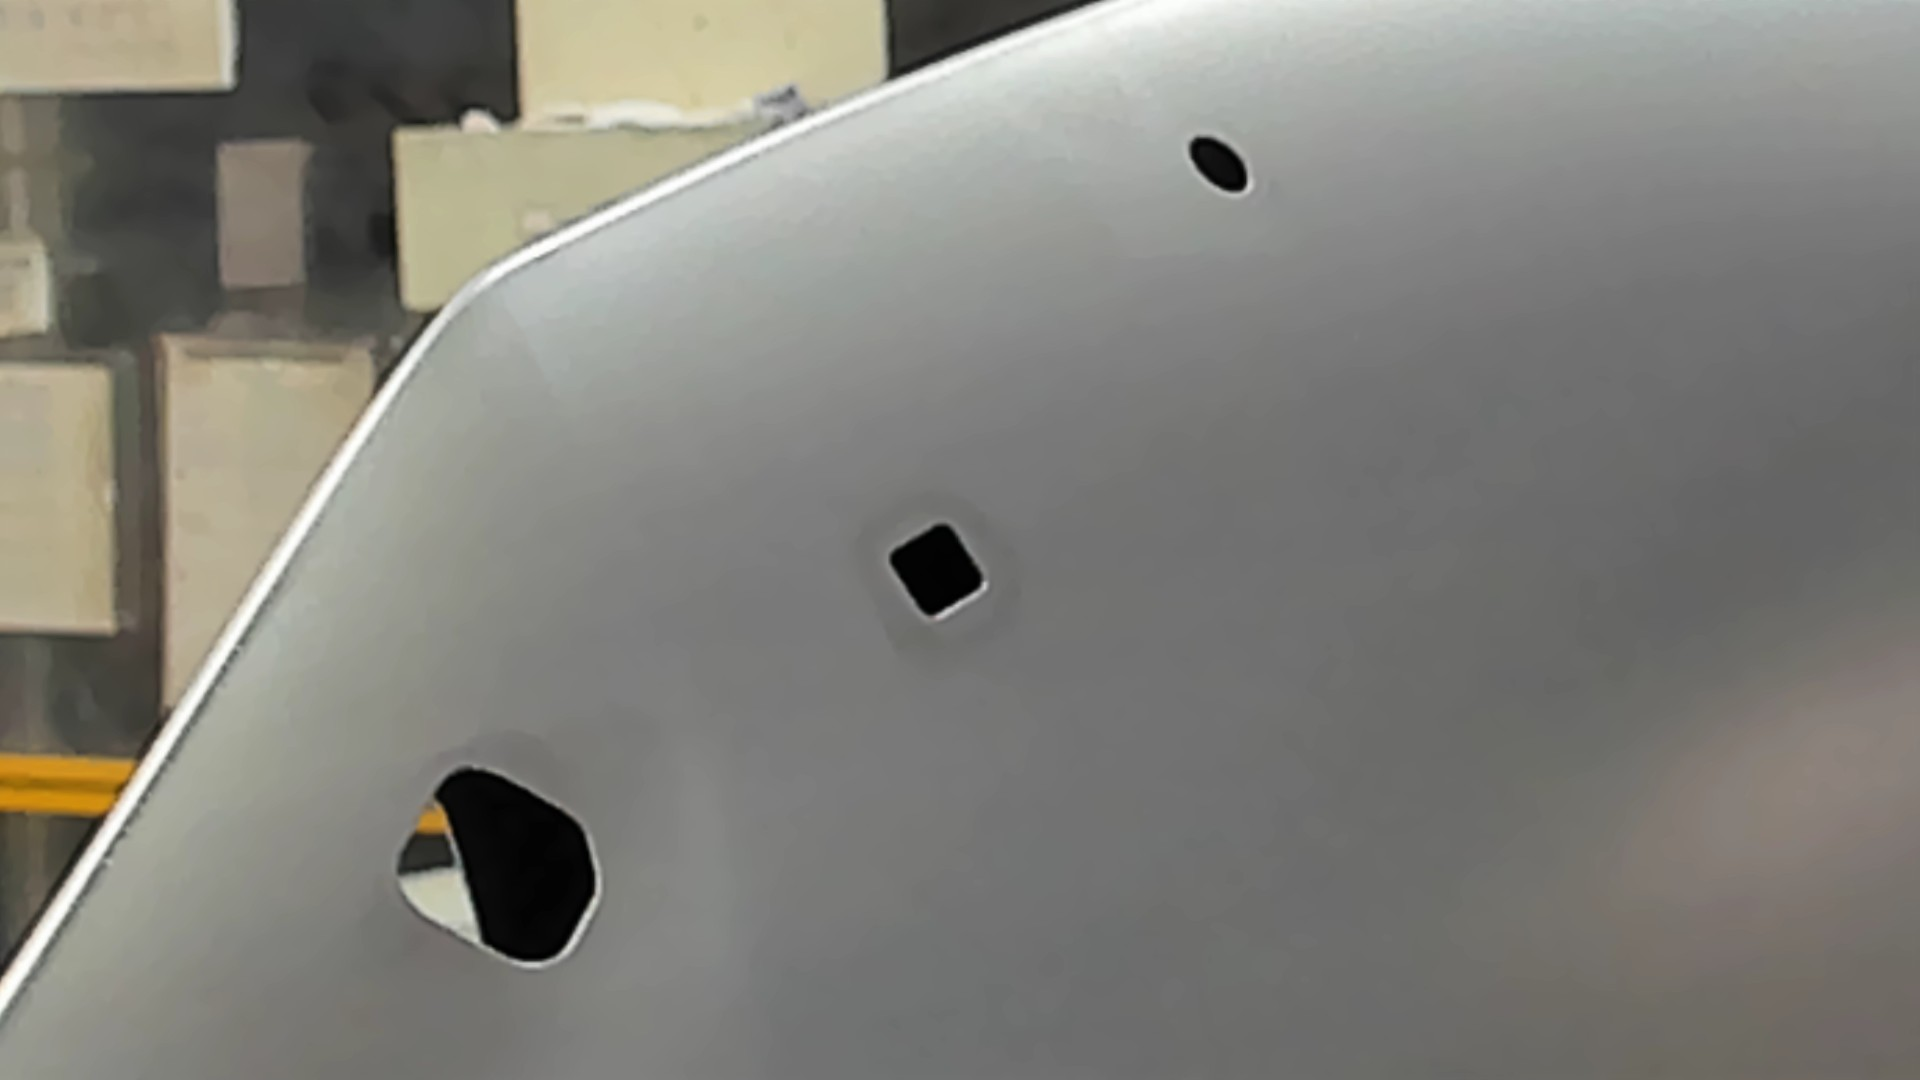chico: (1185, 132, 1254, 196)
grande: (389, 760, 607, 975)
mediano: (882, 520, 989, 622)
